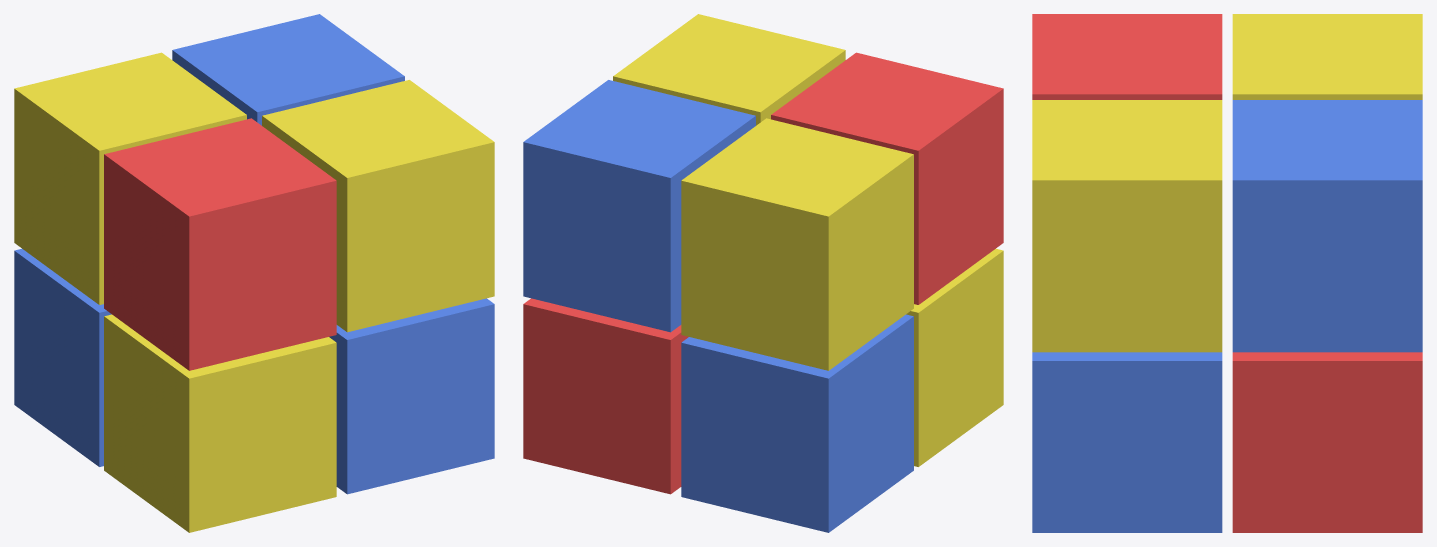
Rendered from mofang.fbx.
The picture shows the model from 3 angles, left to right: view 1: azimuth 30°, elevation 25°; view 2: azimuth 150°, elevation 25°; view 3: azimuth 270°, elevation 25°; orthographic projection. The views are drawn at different scales.
Parts seen in each view (by area): view 1: pasted__pasted__pCube21 (×3), pasted__pasted__pasted__pCube21 (×2), pasted__pCube21, pasted__pasted__pasted__pasted__pCube21; view 2: pasted__pasted__pasted__pCube21 (×3), pasted__pasted__pCube21 (×2), pasted__pasted__pasted__pasted__pCube21, pasted__pCube21; view 3: pasted__pasted__pCube21 (×3), pasted__pasted__pasted__pCube21 (×2), pasted__pCube21.
Boxes of the visible parts, x1,y1,x2,y2 form: pasted__pasted__pCube21 (×3): (104, 14, 494, 494); pasted__pasted__pasted__pCube21 (×2): (14, 52, 336, 532); pasted__pCube21: (262, 80, 494, 332); pasted__pasted__pasted__pasted__pCube21: (14, 248, 111, 466); pasted__pasted__pasted__pCube21 (×3): (523, 118, 1003, 494); pasted__pasted__pCube21 (×2): (523, 52, 1003, 332); pasted__pasted__pasted__pasted__pCube21: (681, 314, 913, 532); pasted__pCube21: (613, 14, 845, 125); pasted__pasted__pCube21 (×3): (1032, 14, 1422, 532); pasted__pasted__pasted__pCube21 (×2): (1232, 14, 1422, 532); pasted__pCube21: (1032, 100, 1222, 352).
Bounding box in the file's own units: 2.07 × 2.06 × 2.05.
